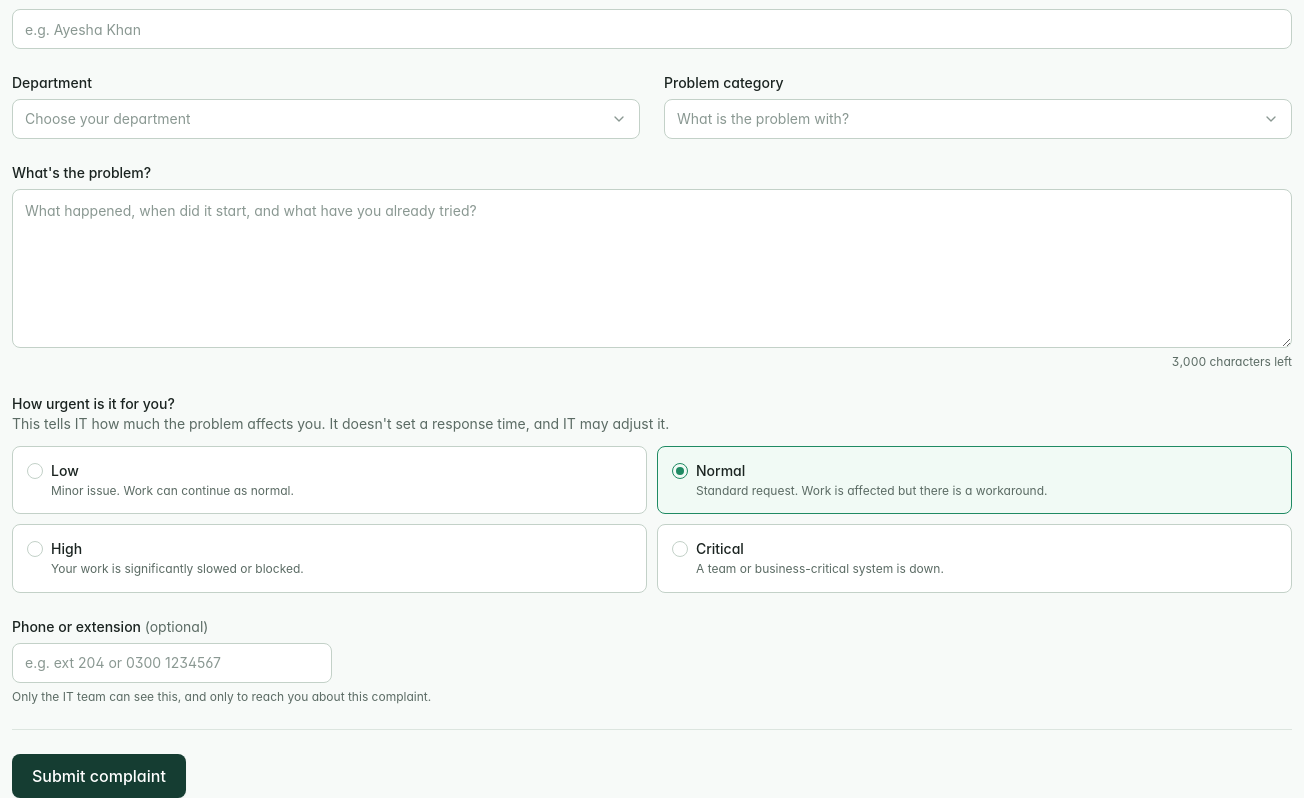
Scenario: ComplaintForm › shows field-level errors and sends nothing when submitted empty
This screenshot has width=1304, height=798.
(page scrolled)
Click the button "Submit complaint": (99, 776) [12, 754, 186, 797]
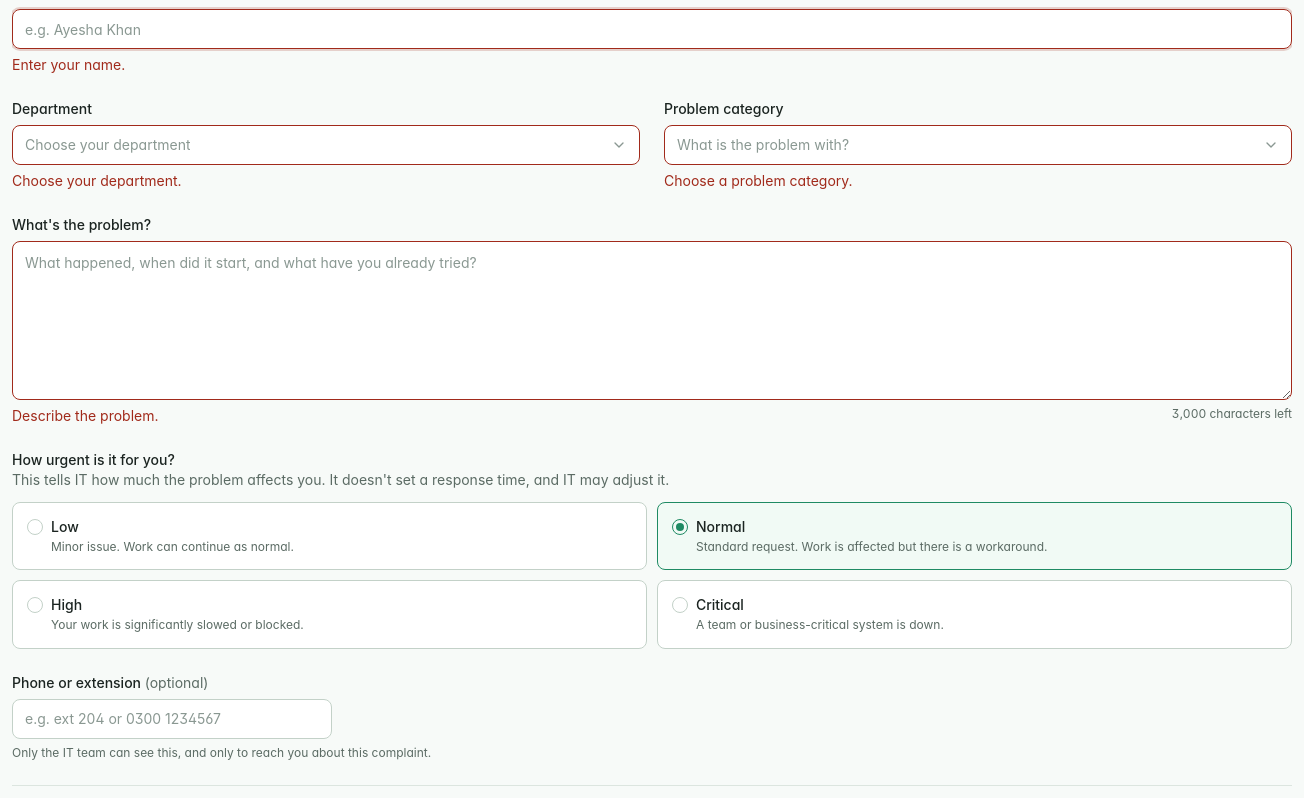
Result: the text "Enter your name." is shown at [12, 56, 125, 73]
Result: the text "Choose your department." is shown at [12, 172, 182, 189]
Result: the text "Choose a problem category." is shown at [664, 172, 853, 189]
